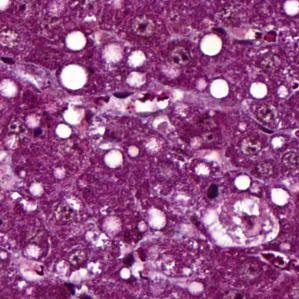ballooning: (196, 191, 282, 252)
